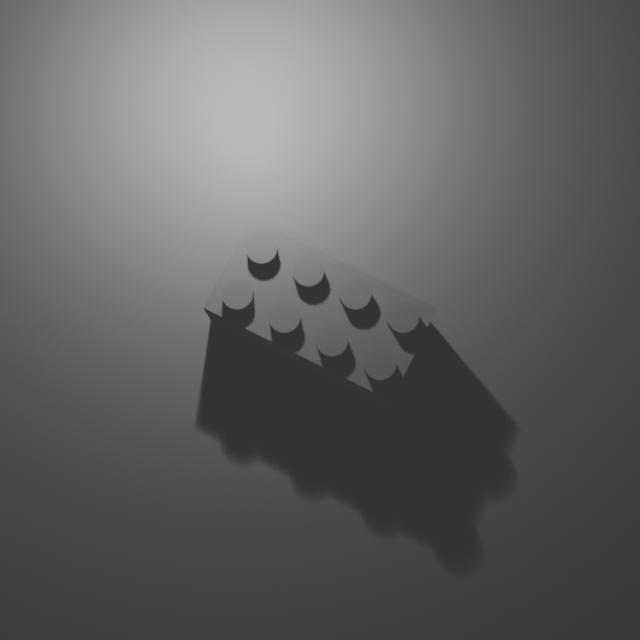lego_2x4: (202, 215, 438, 408)
